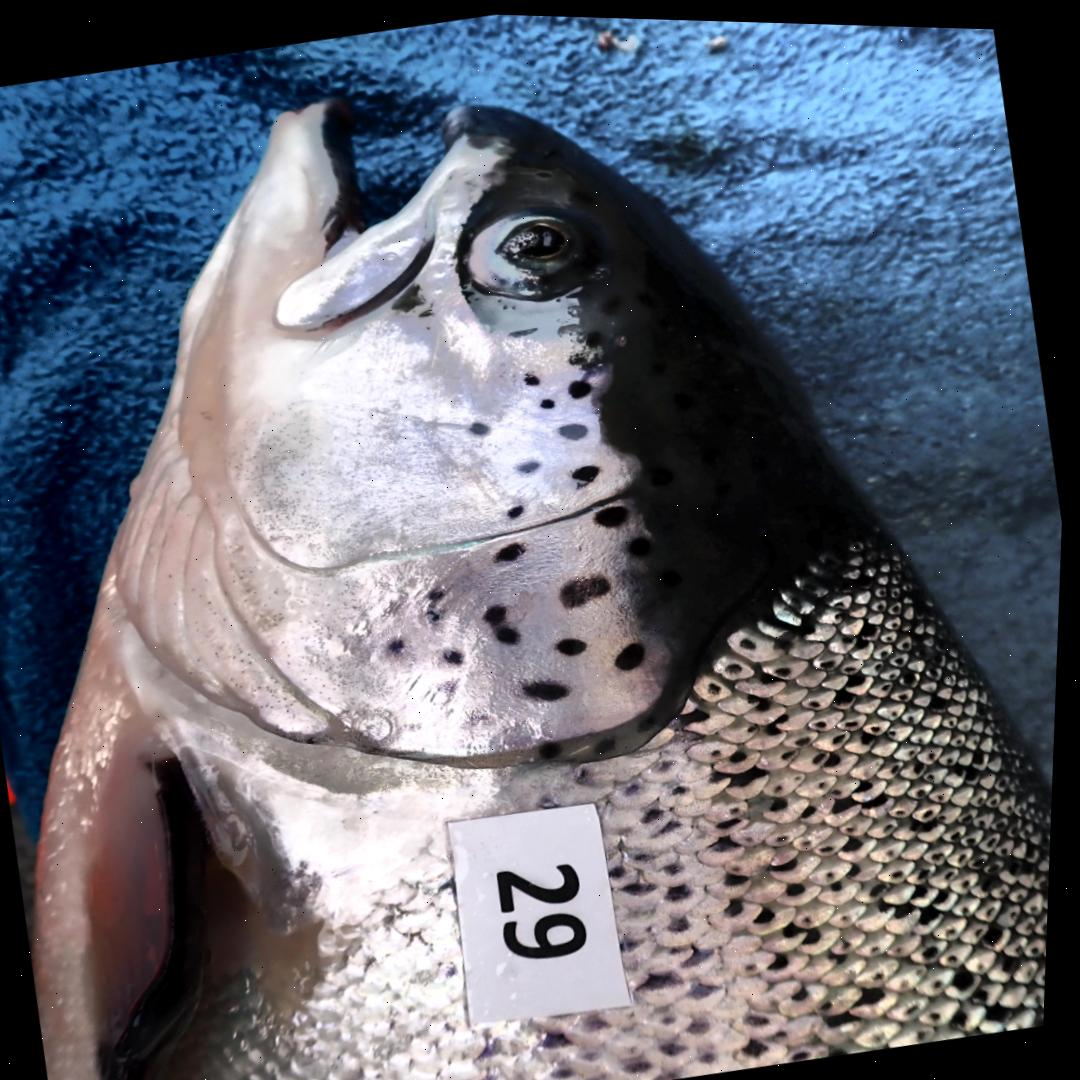spot: (563, 572, 615, 605), (486, 601, 524, 642), (528, 677, 575, 698), (596, 501, 633, 524), (436, 674, 467, 701), (619, 638, 648, 666), (428, 586, 448, 623), (497, 539, 529, 560), (467, 705, 501, 724), (560, 634, 592, 653), (575, 461, 603, 482), (428, 582, 451, 607), (568, 374, 594, 396), (631, 532, 655, 553), (560, 419, 589, 436), (446, 646, 469, 663), (544, 738, 567, 755), (390, 635, 410, 653), (470, 418, 493, 433), (600, 733, 620, 749), (519, 457, 542, 470), (570, 348, 590, 362), (509, 502, 528, 516), (526, 369, 541, 382), (541, 394, 556, 406)
